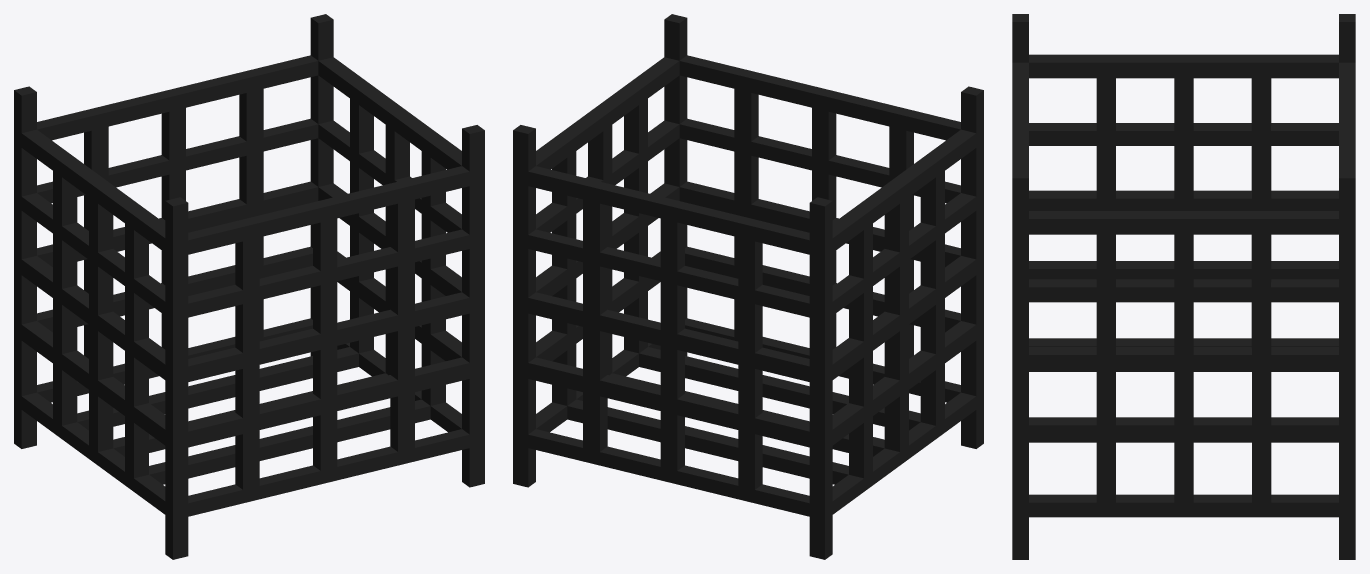
File: Cage.fbx
3 views of the same model, side by side, from view 1: azimuth 30°, elevation 25°; view 2: azimuth 150°, elevation 25°; view 3: azimuth 270°, elevation 25° (orthographic). The views are drawn at different scales.
Parts seen in each view (by area): view 1: Cube.011; view 2: Cube.011; view 3: Cube.011.
Boxes of the visible parts, x1,y1,x2,y2 form: Cube.011: (14,14,484,559); Cube.011: (513,14,983,559); Cube.011: (1012,14,1355,559).
Bounding box in the file's own units: 227 × 246 × 200.
1 material, 1 textured.
